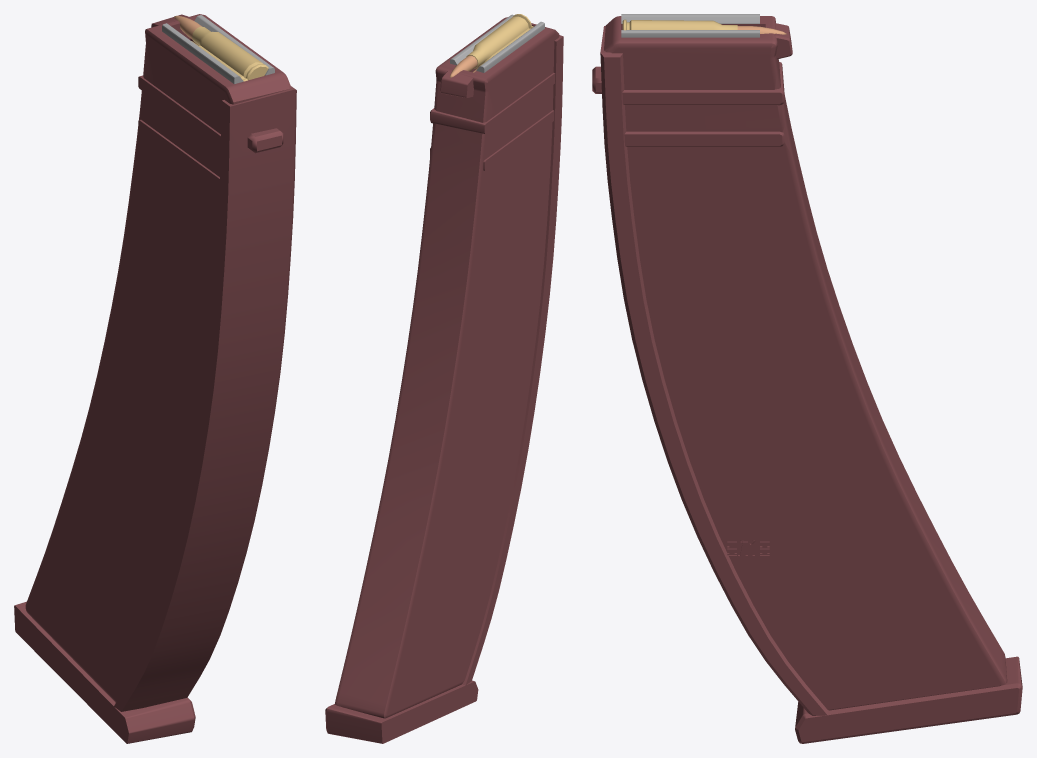
Rendered from rpk_mag.glb.
3 renders of one model, left to right at view 1: azimuth 30°, elevation 25°; view 2: azimuth 150°, elevation 25°; view 3: azimuth 270°, elevation 25°, orthographic. The views are drawn at different scales.
Parts seen in each view (by area): view 1: static_mag, round_1; view 2: static_mag, round_1; view 3: static_mag, round_1.
Part boxes in pixels (bbox=[...]): static_mag: bbox=[14, 14, 296, 743]; round_1: bbox=[174, 15, 268, 80]; static_mag: bbox=[325, 14, 563, 743]; round_1: bbox=[450, 14, 531, 77]; static_mag: bbox=[592, 14, 1022, 743]; round_1: bbox=[622, 19, 786, 34].
Size of the model in its own units: 0.0256 by 0.2716 by 0.1488.
